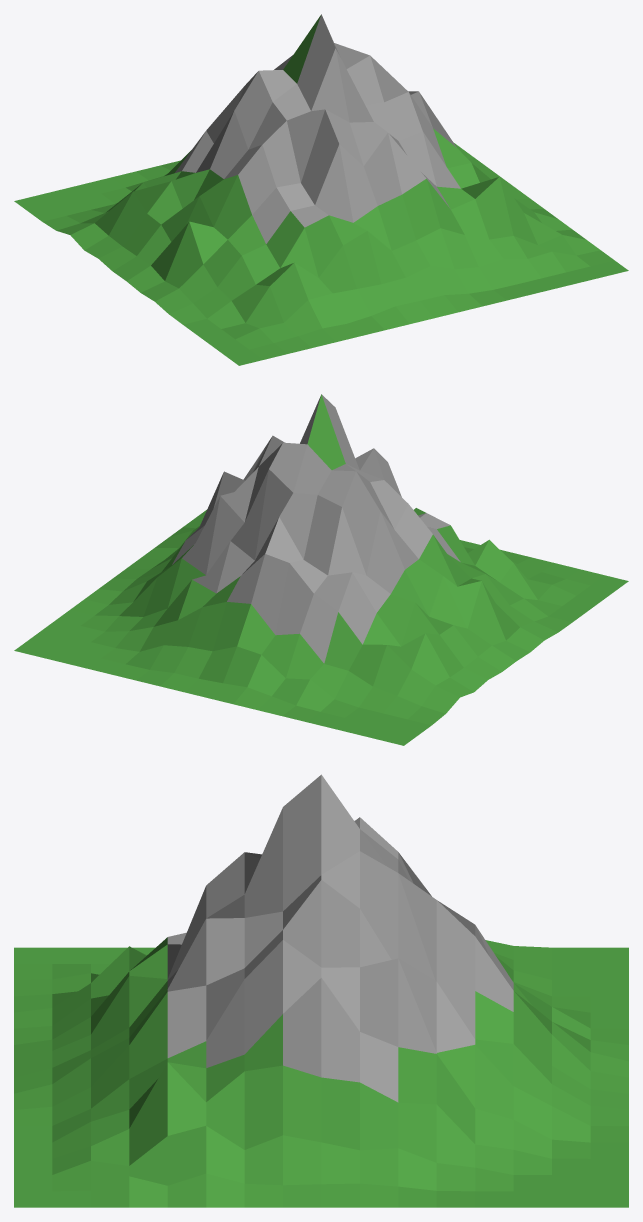
Rendered from Montagne_3.fbx.
The picture shows the model from 3 angles, top to bottom: view 1: azimuth 30°, elevation 25°; view 2: azimuth 150°, elevation 25°; view 3: azimuth 270°, elevation 25°; orthographic projection. The views are drawn at different scales.
Visible parts, largest first — view 1: Plane; view 2: Plane; view 3: Plane.
Boxes of the visible parts, bbox=[...] form: Plane: bbox=[14, 14, 628, 365]; Plane: bbox=[14, 394, 628, 745]; Plane: bbox=[14, 774, 628, 1207].
Bounding box in the file's own units: 2206 × 1200 × 2206.
